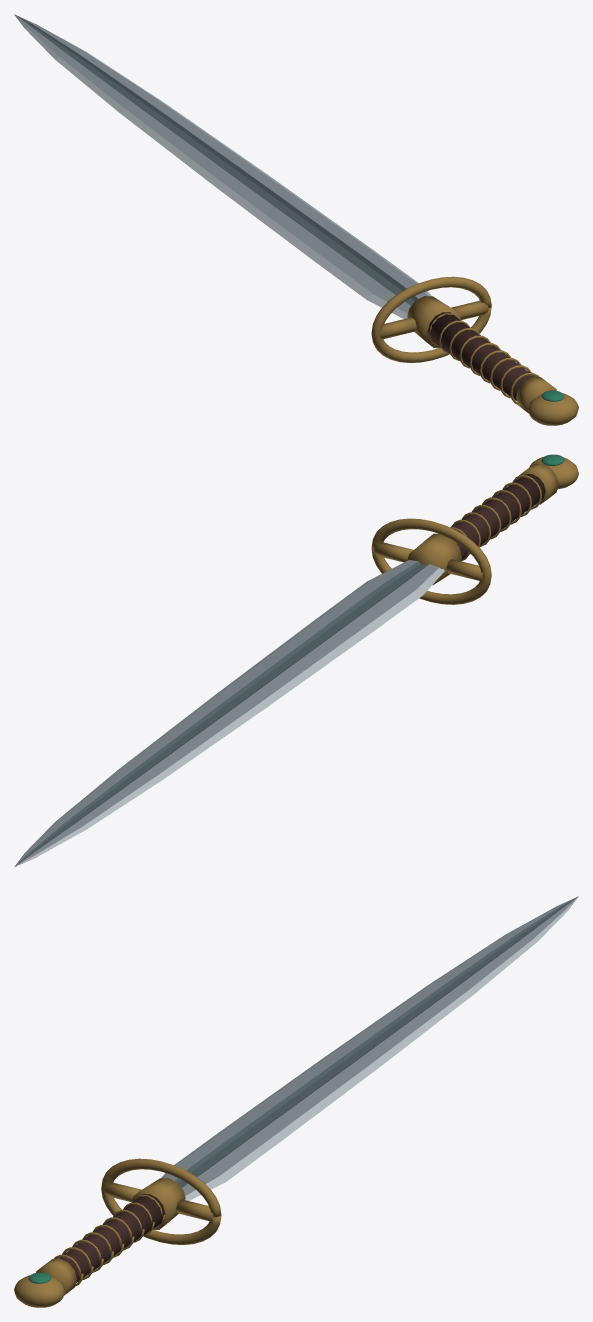
The model's file is cairnwarden.glb.
The picture shows the model from 3 angles, top to bottom: view 1: azimuth 30°, elevation 25°; view 2: azimuth 150°, elevation 25°; view 3: azimuth 330°, elevation 25°; orthographic projection.
Parts seen in each view (by area): view 1: MV_cairnwarden; view 2: MV_cairnwarden; view 3: MV_cairnwarden.
Part boxes in pixels (x1,y1,x2,y2): MV_cairnwarden: [14, 14, 578, 425]; MV_cairnwarden: [14, 454, 578, 867]; MV_cairnwarden: [14, 896, 578, 1307].
Size of the model in its own units: 0.1699 by 0.11 by 1.35.
